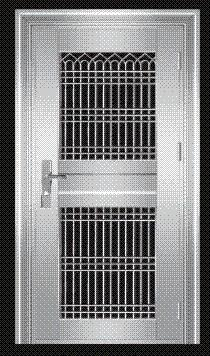door: (31, 24, 185, 341)
